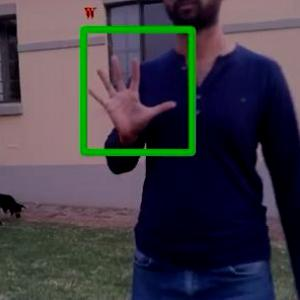follow_hand: (82, 53, 176, 138)
